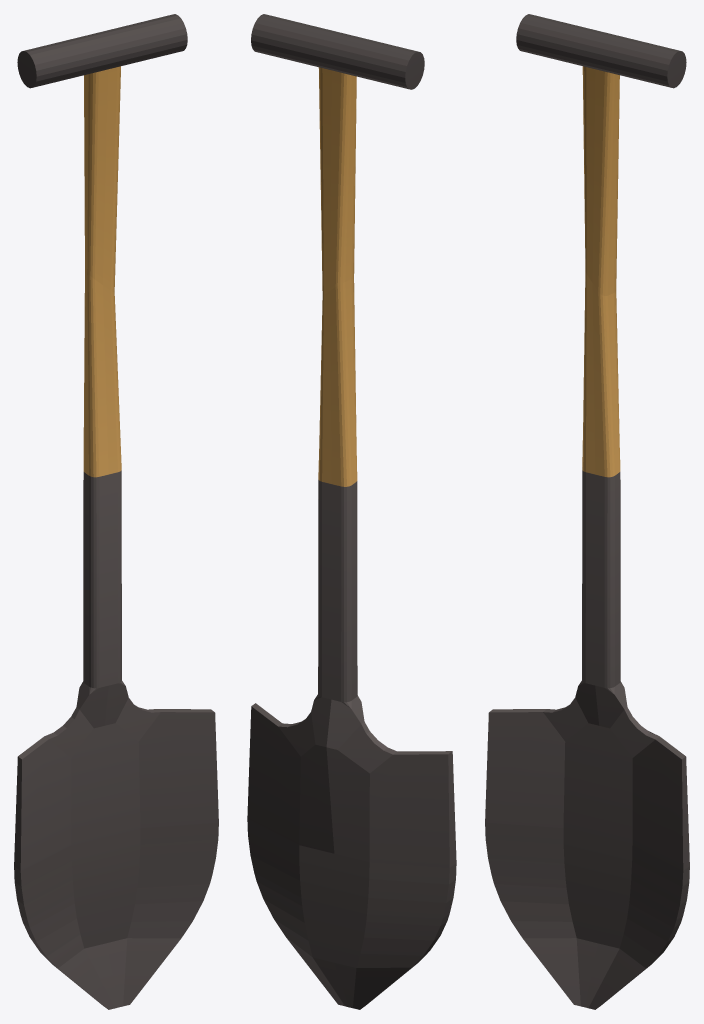
File: Shovel.fbx
3 views of the same model, side by side, from view 1: azimuth 30°, elevation 25°; view 2: azimuth 150°, elevation 25°; view 3: azimuth 330°, elevation 25° (orthographic). The views are drawn at different scales.
Parts seen in each view (by area): view 1: Shovel; view 2: Shovel; view 3: Shovel.
Boxes of the visible parts, x1,y1,x2,y2 form: Shovel: [14, 14, 218, 1009]; Shovel: [247, 14, 456, 1009]; Shovel: [485, 14, 689, 1009].
Bounding box in the file's own units: 29.26 × 136 × 7.28.
